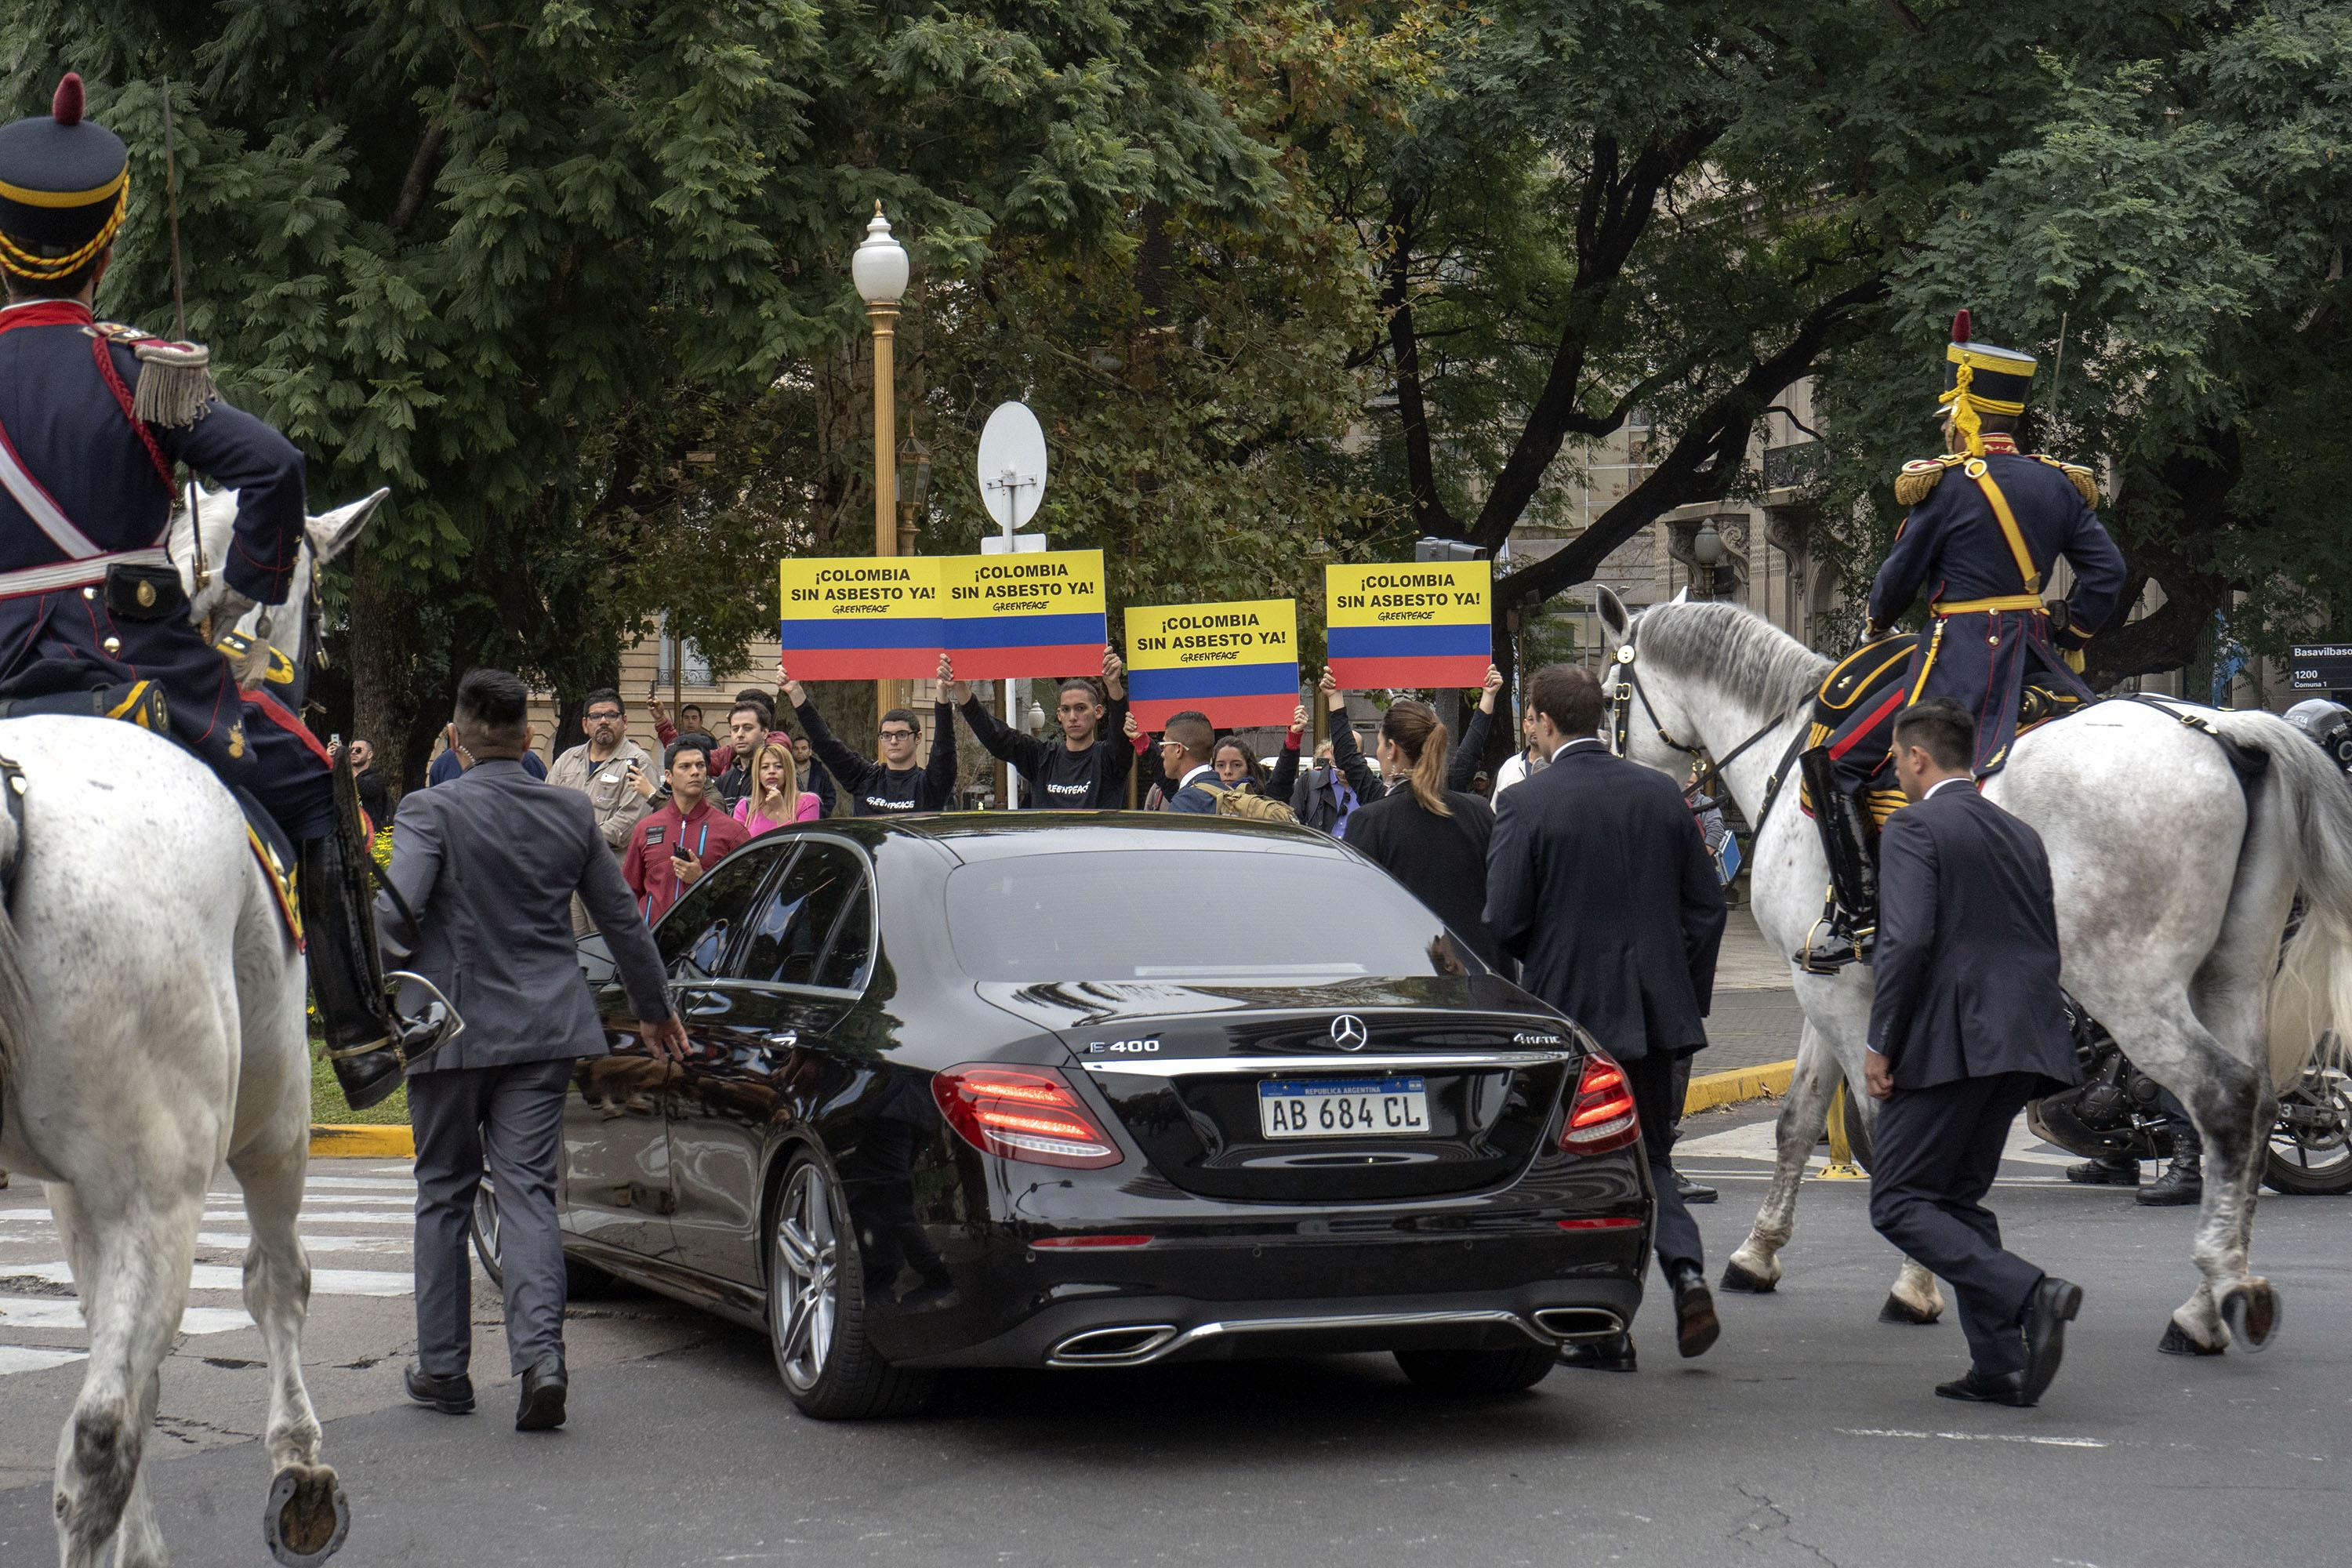matricula: (1254, 1073, 1434, 1141)
